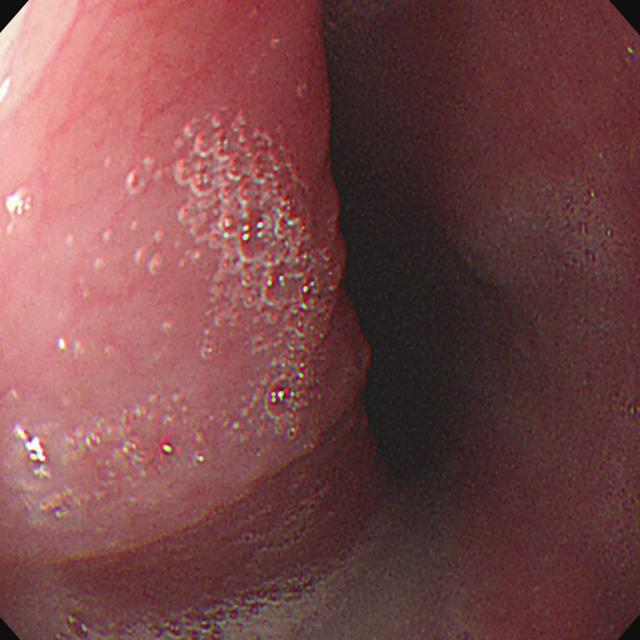T: (175, 109, 339, 443), (52, 572, 329, 640)
U: (18, 430, 48, 465)
